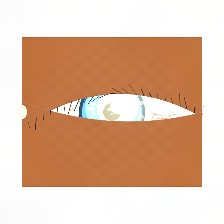corneal_ulcer: (84, 81, 152, 135)
